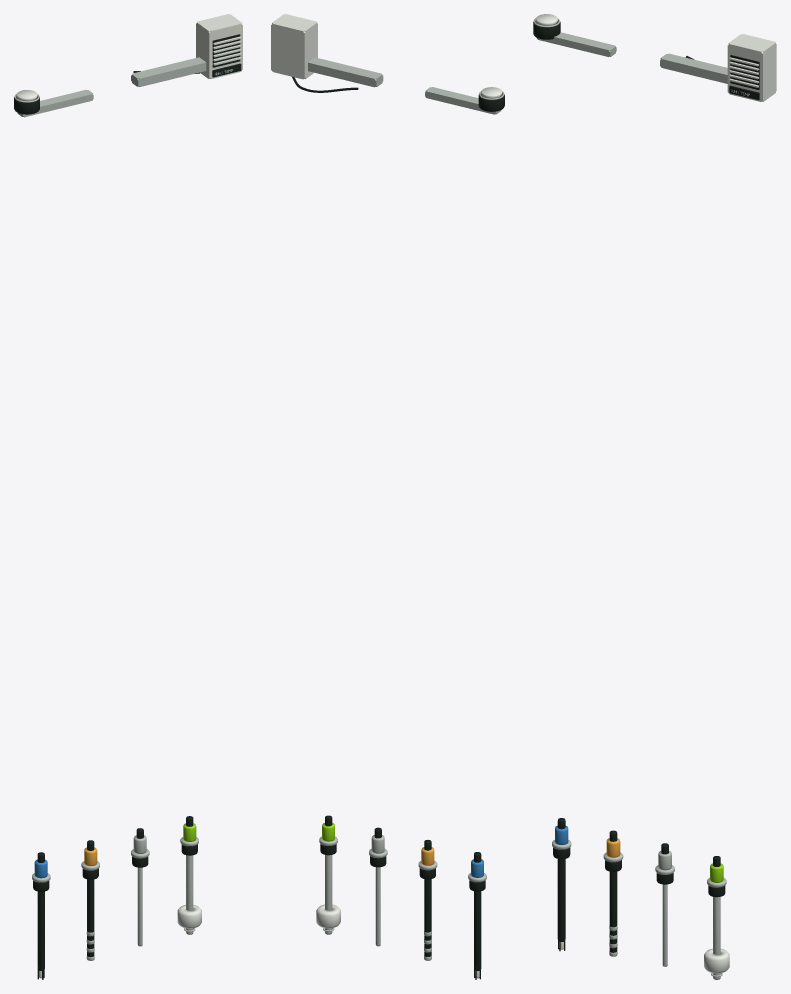
The model's file is layout-sensors.glb.
The picture shows the model from 3 angles, left to right: view 1: azimuth 30°, elevation 25°; view 2: azimuth 150°, elevation 25°; view 3: azimuth 330°, elevation 25°; orthographic projection. The views are drawn at different scales.
Parts seen in each view (by area): view 1: Humidity and air temperature sensor.003, Air sensor standoff.003, Light sensor arm.003, pH immersion shaft.004, EC immersion shaft.004; view 2: Humidity and air temperature sensor.003, Air sensor standoff.003, Light sensor arm.003, pH immersion shaft.004, EC immersion shaft.004; view 3: Humidity and air temperature sensor.003, Air sensor standoff.003, Light sensor arm.003, pH immersion shaft.004, EC immersion shaft.004, Level float.004.
Boxes of the visible parts, left/top/right/bottom form: Humidity and air temperature sensor.003: left=196, top=14, right=242, bottom=78; Air sensor standoff.003: left=131, top=57, right=206, bottom=86; Light sensor arm.003: left=17, top=89, right=93, bottom=117; pH immersion shaft.004: left=37, top=891, right=44, bottom=970; EC immersion shaft.004: left=87, top=879, right=94, bottom=957; Humidity and air temperature sensor.003: left=271, top=14, right=317, bottom=79; Air sensor standoff.003: left=308, top=57, right=383, bottom=87; Light sensor arm.003: left=425, top=87, right=501, bottom=114; pH immersion shaft.004: left=474, top=891, right=481, bottom=970; EC immersion shaft.004: left=424, top=879, right=431, bottom=956; Humidity and air temperature sensor.003: left=727, top=34, right=776, bottom=101; Air sensor standoff.003: left=660, top=53, right=727, bottom=83; Light sensor arm.003: left=536, top=32, right=616, bottom=56; pH immersion shaft.004: left=557, top=859, right=565, bottom=941; EC immersion shaft.004: left=609, top=871, right=617, bottom=952; Level float.004: left=704, top=948, right=729, bottom=973.
Size of the model in its own units: 0.6295 by 2.46 by 0.1049.
